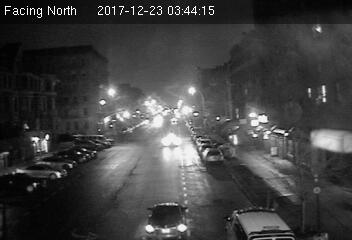car: (141, 199, 190, 240), (202, 146, 224, 163), (160, 133, 180, 147)
police: (224, 206, 299, 240)
